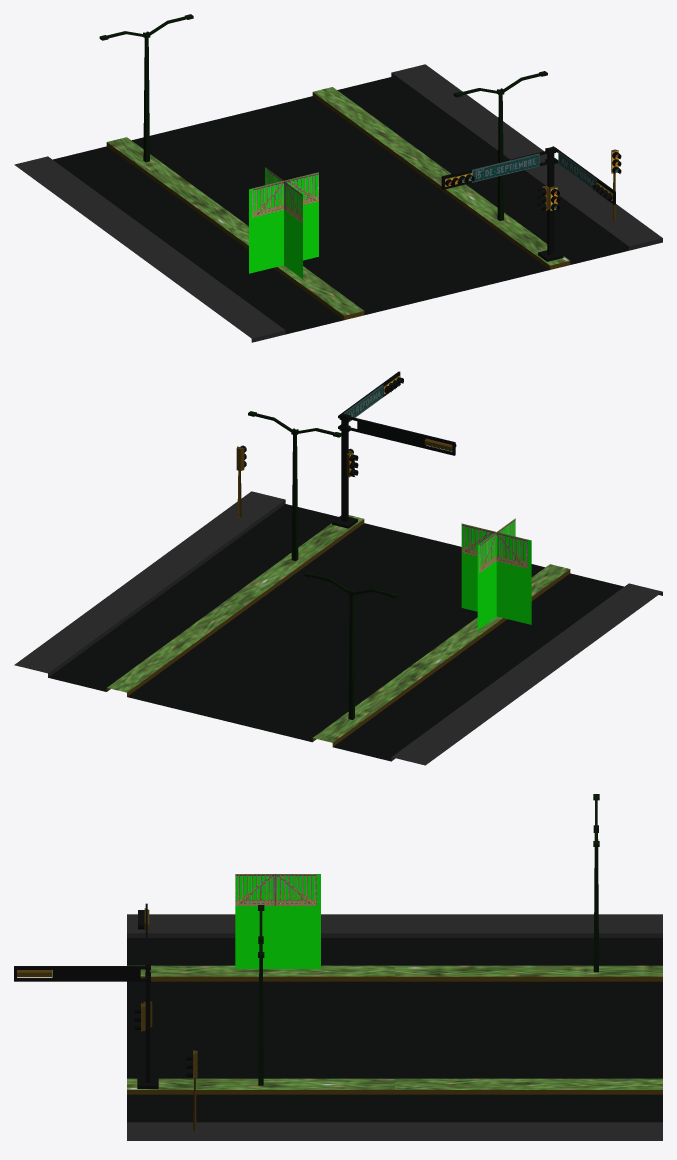
Rendered from 05_bridge.obj.
The picture shows the model from 3 angles, top to bottom: view 1: azimuth 30°, elevation 25°; view 2: azimuth 150°, elevation 25°; view 3: azimuth 270°, elevation 25°; orthographic projection. The views are drawn at different scales.
Visible parts, largest first — view 1: 05_bridge_Plane.013; view 2: 05_bridge_Plane.013; view 3: 05_bridge_Plane.013.
Boxes of the visible parts, x1,y1,x2,y2 form: 05_bridge_Plane.013: (14, 14, 662, 342); 05_bridge_Plane.013: (14, 371, 662, 765); 05_bridge_Plane.013: (14, 794, 662, 1140).
Bounding box in the file's own units: 4.48 × 1.47 × 5.43.
